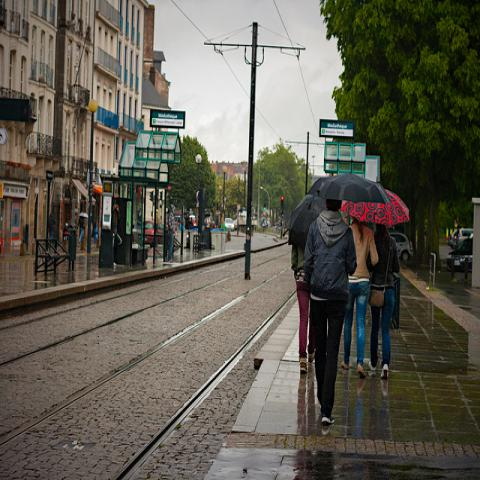car: (447, 238, 473, 272), (390, 232, 413, 261), (145, 219, 163, 246), (448, 229, 473, 248), (224, 218, 235, 231)
